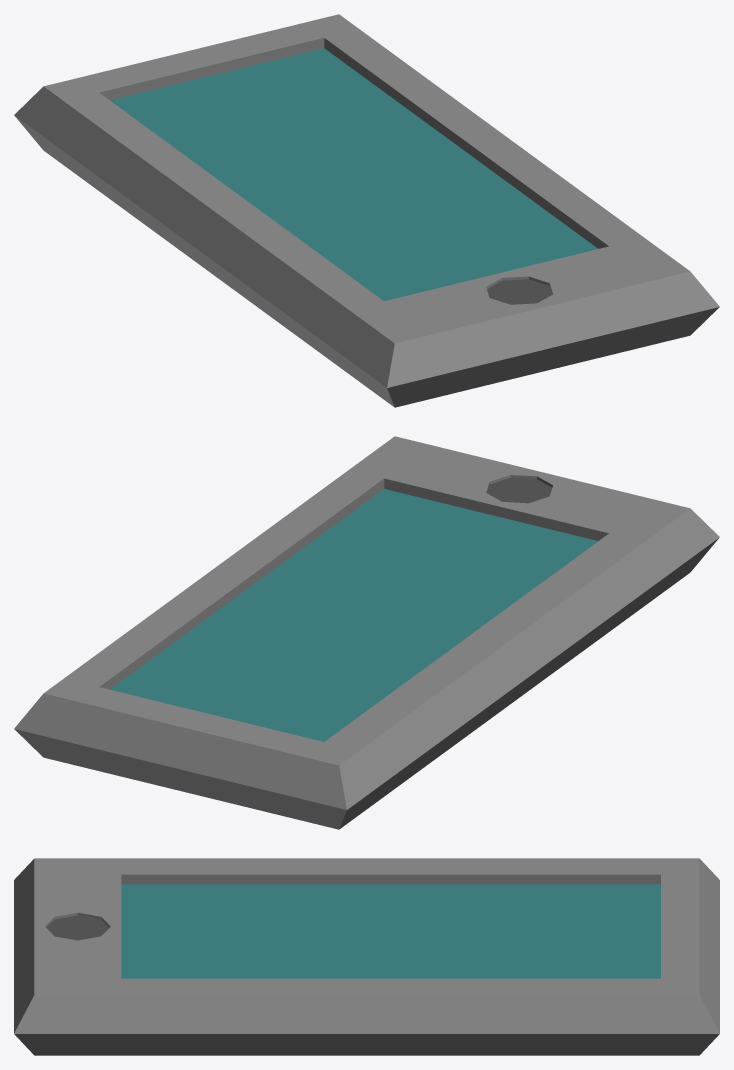
Rendered from Phone.glb.
The picture shows the model from 3 angles, top to bottom: view 1: azimuth 30°, elevation 25°; view 2: azimuth 150°, elevation 25°; view 3: azimuth 270°, elevation 25°; orthographic projection. The views are drawn at different scales.
Visible parts, largest first — view 1: Phone; view 2: Phone; view 3: Phone.
Part boxes in pixels (bbox=[...]): Phone: bbox=[14, 14, 719, 407]; Phone: bbox=[14, 436, 719, 829]; Phone: bbox=[14, 858, 719, 1055].
Size of the model in its own units: 79.79 by 14.7 by 155.
